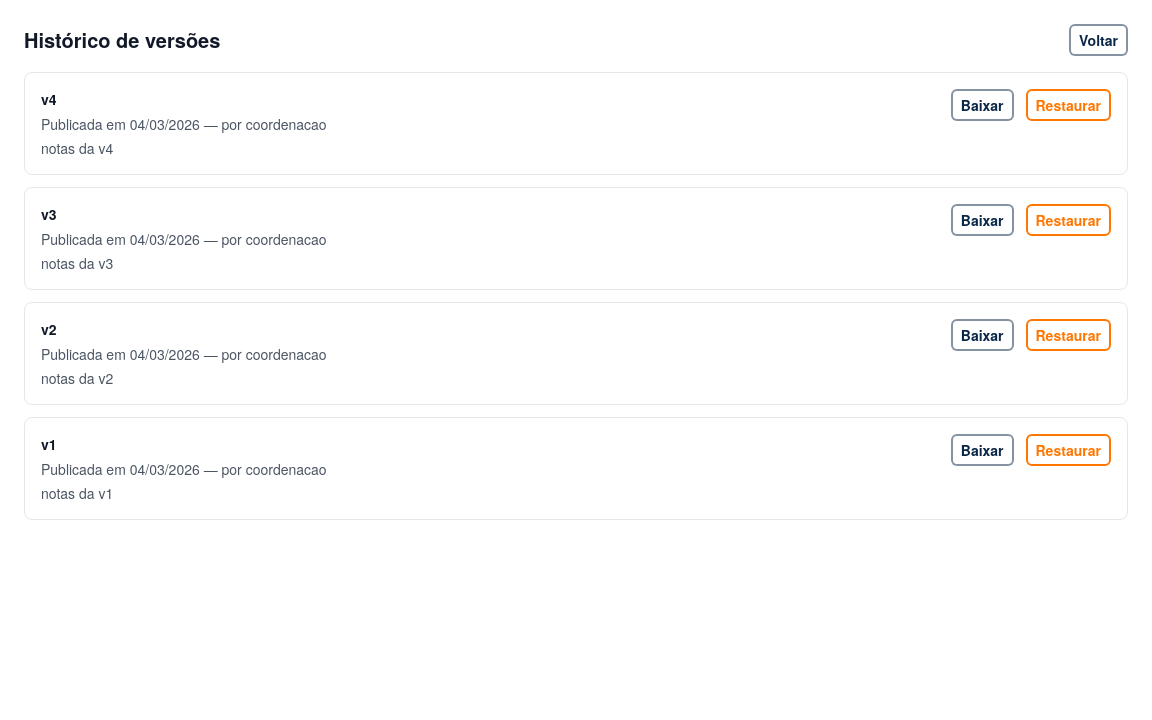
Test case: Historico › sem versão publicada, não promete que uma continua no ar
The image size is (1152, 720).
Click the 3rd button "Restaurar": (1068, 335) [1036,325,1101,345]
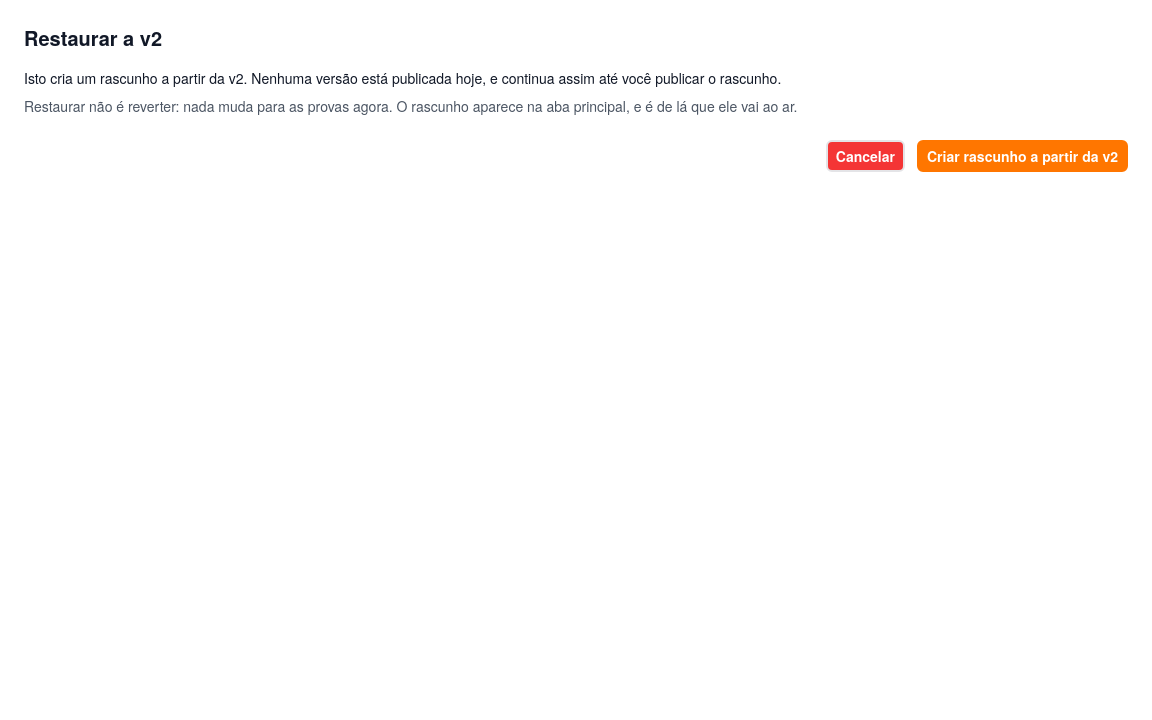
Expected: the text "Isto cria um rascunho a partir da v2. Nenhuma versão está publicada hoje, e continua assim até você publicar o rascunho." is shown, [24,68,781,88]
